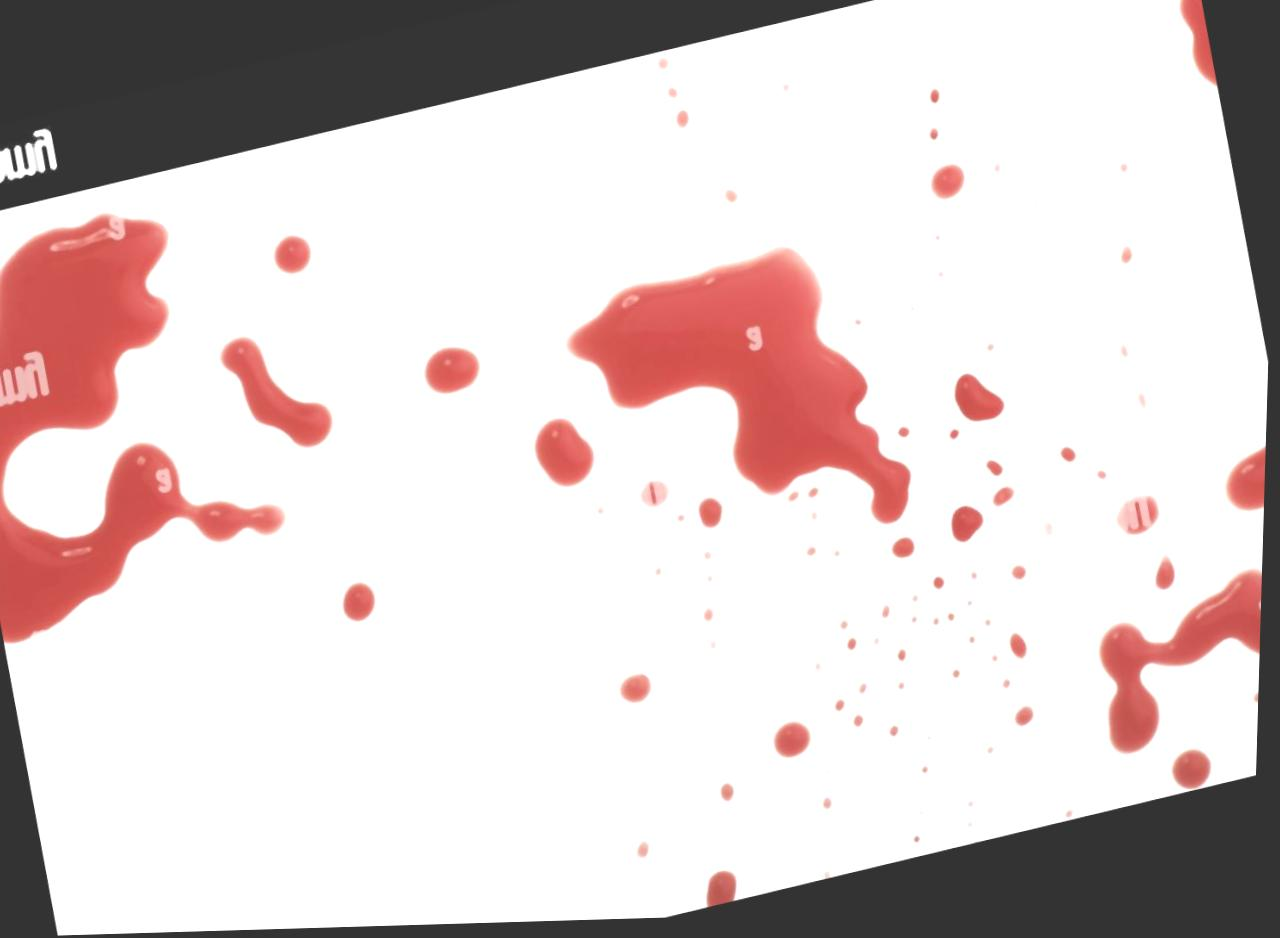Fire: (0, 214, 288, 644), (567, 251, 914, 530), (1102, 577, 1266, 763), (221, 338, 334, 450), (537, 422, 597, 492), (1227, 452, 1269, 519), (426, 349, 482, 398), (956, 379, 1007, 428), (1175, 756, 1216, 798), (274, 236, 313, 277), (778, 727, 815, 764), (345, 584, 379, 624), (931, 170, 966, 206), (953, 512, 987, 549), (711, 874, 742, 912), (622, 677, 656, 708), (1157, 562, 1180, 598), (701, 502, 726, 534), (894, 542, 918, 565)
